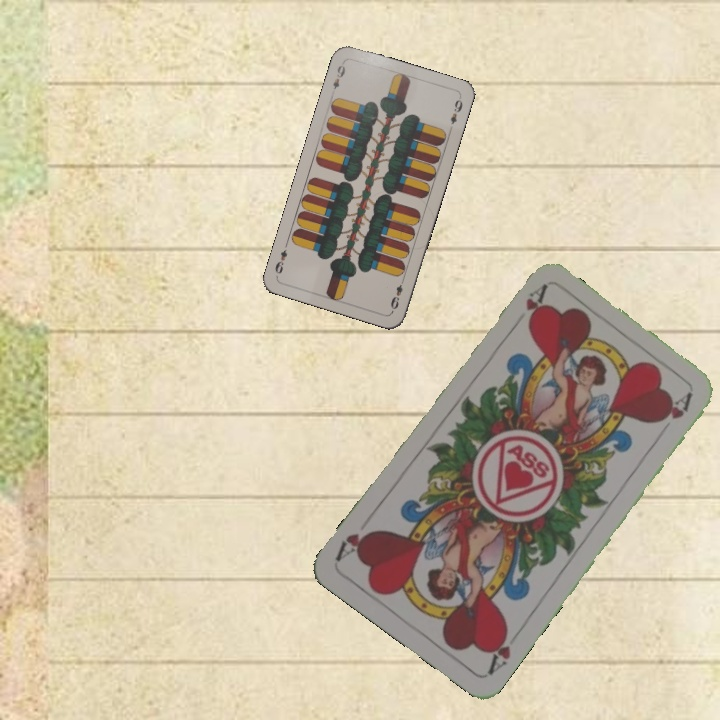E9: (327, 58, 348, 97), (386, 274, 407, 312)
HA: (507, 282, 549, 333), (483, 622, 514, 677)
